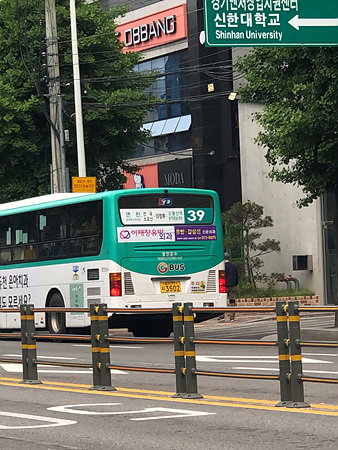bnum: (184, 207, 207, 222)
